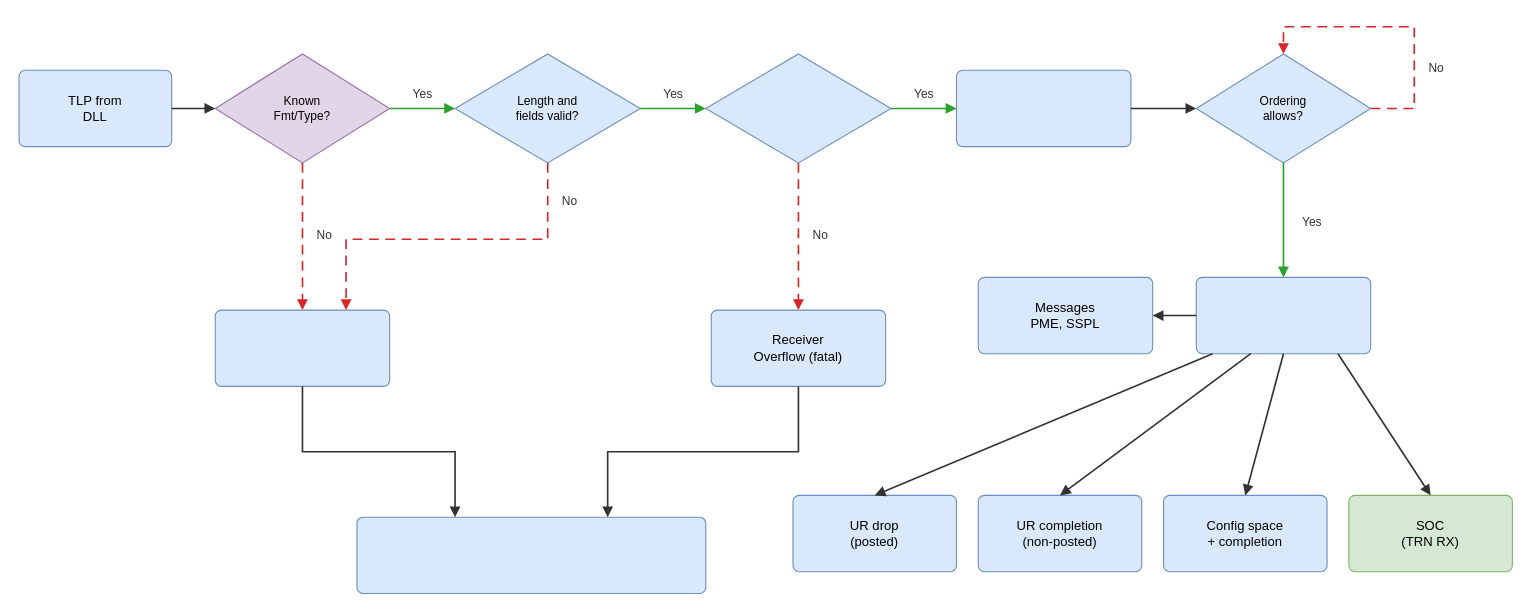
Some shapes in this 1531 by 614 pixel diagram are drawn without their labels. The shapes that lost their labels are listed below. From the top down, each one's box as (x1, y1, x2, y2) in pixels, then its label:
(705, 53, 891, 163): Within advertised credits?
(955, 69, 1131, 147): P / Cpl or NP queue
(1195, 276, 1371, 354): Decode type, BAR0 hit
(214, 309, 390, 386): Malformed (fatal)
(356, 516, 706, 594): Discard, ERR_FATAL if enabled
